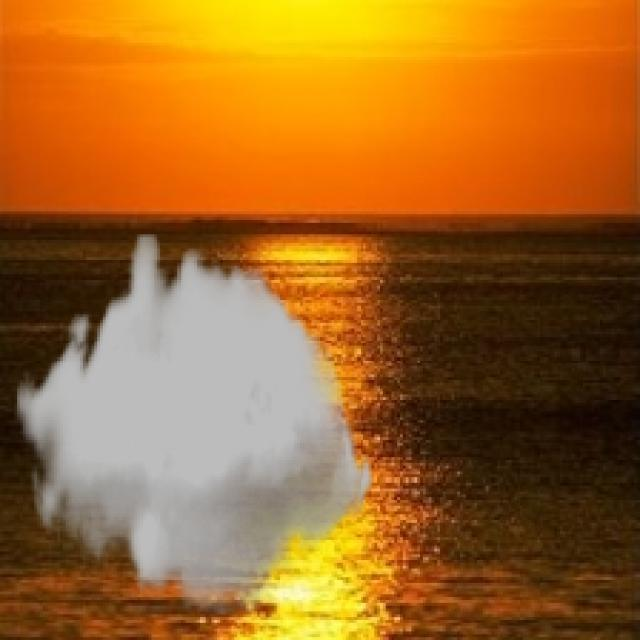smoke: (14, 235, 374, 614)
